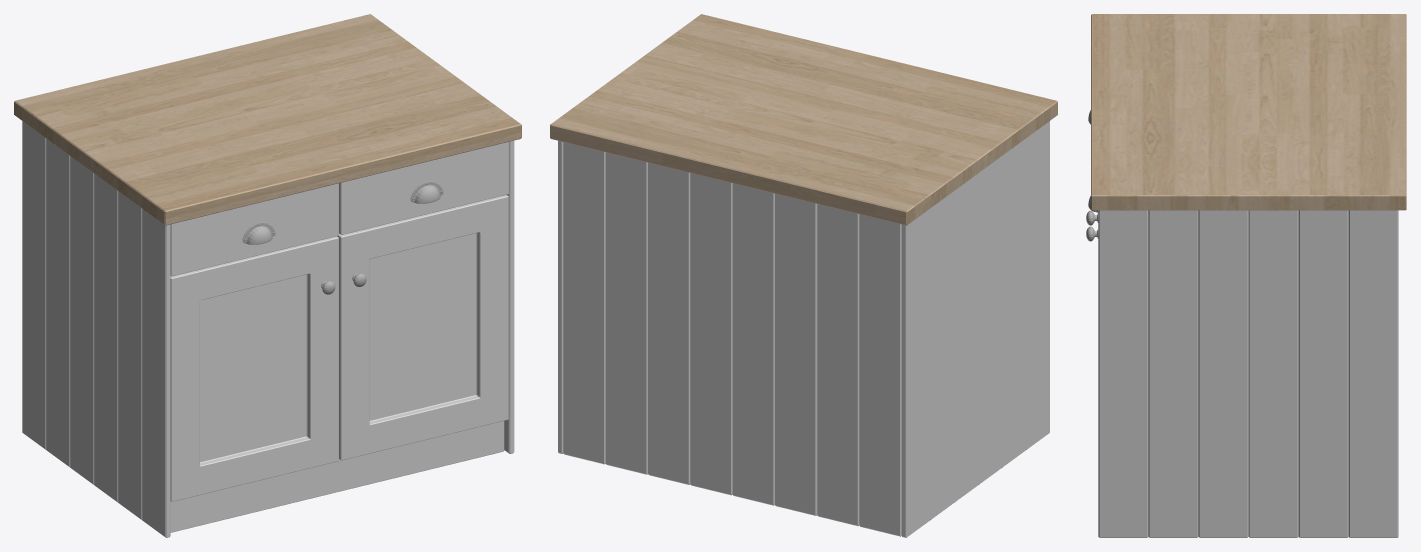
Rendered from kitchenIslandDown.obj.
The picture shows the model from 3 angles, left to right: view 1: azimuth 30°, elevation 25°; view 2: azimuth 150°, elevation 25°; view 3: azimuth 270°, elevation 25°; orthographic projection. The views are drawn at different scales.
Parts seen in each view (by area): view 1: Cube.050_Cube.029, Worktop-Island_Cube.052, Island-Panel3_Cube.054, Island-base-trim_Cube.023, Island-Panel1_Cube.053, Cup-Handle-Island_Sphere.011; view 2: Island-Panel2_Cube.055, Worktop-Island_Cube.052, Island-Panel3_Cube.054, Island-Panel1_Cube.053; view 3: Island-Panel1_Cube.053, Worktop-Island_Cube.052.
Part boxes in pixels (bbox=[...]): Cube.050_Cube.029: bbox=[170, 142, 508, 501]; Worktop-Island_Cube.052: bbox=[14, 14, 521, 225]; Island-Panel3_Cube.054: bbox=[22, 121, 170, 537]; Island-base-trim_Cube.023: bbox=[170, 421, 504, 532]; Island-Panel1_Cube.053: bbox=[504, 140, 514, 453]; Cup-Handle-Island_Sphere.011: bbox=[242, 181, 443, 244]; Island-Panel2_Cube.055: bbox=[563, 142, 901, 536]; Worktop-Island_Cube.052: bbox=[550, 14, 1057, 225]; Island-Panel3_Cube.054: bbox=[901, 121, 1049, 537]; Island-Panel1_Cube.053: bbox=[558, 140, 563, 453]; Island-Panel1_Cube.053: bbox=[1098, 210, 1398, 537]; Worktop-Island_Cube.052: bbox=[1091, 14, 1406, 210].
Size of the model in its own units: 93.88 by 83.09 by 69.94.
3 materials, 1 textured.
